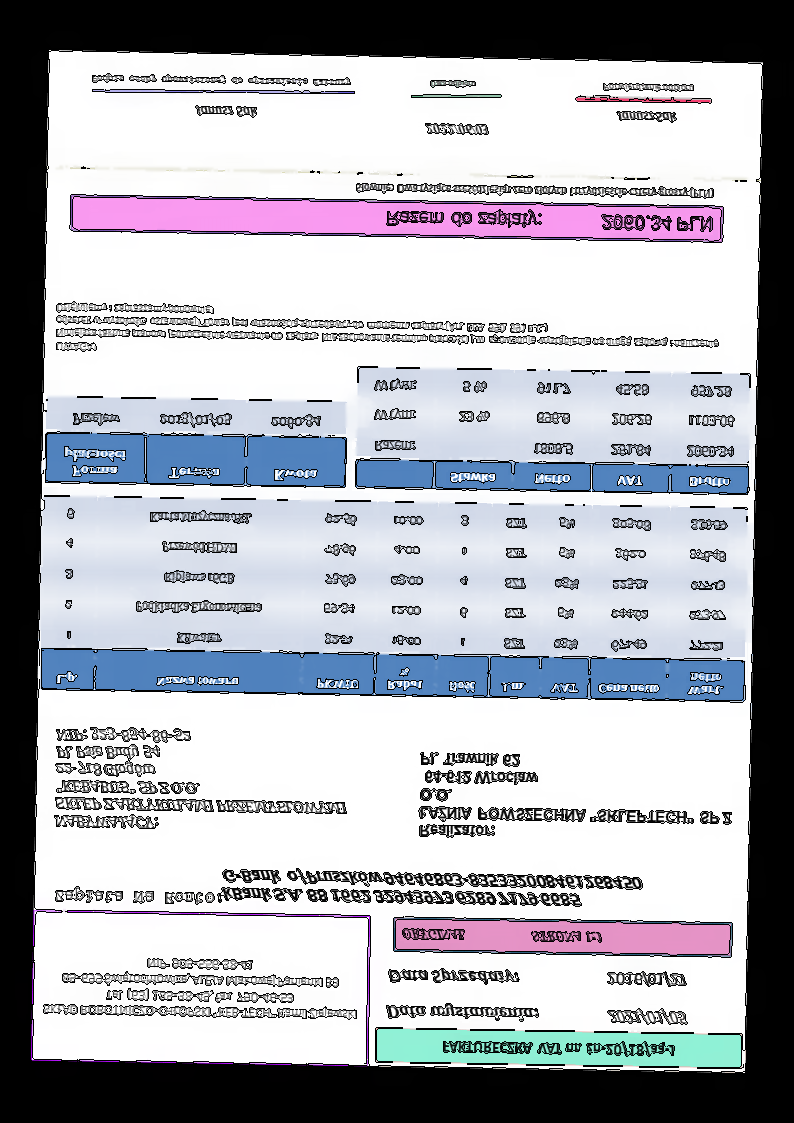Table: (38, 493, 749, 705), (354, 364, 753, 496), (44, 396, 347, 490)
TextBox: (54, 300, 722, 365), (52, 722, 352, 836), (416, 746, 738, 843), (41, 949, 361, 1025), (221, 867, 645, 908), (384, 207, 714, 234), (353, 180, 718, 201), (439, 1036, 677, 1062), (88, 71, 352, 88), (400, 924, 606, 945), (384, 997, 539, 1024), (53, 886, 224, 907), (384, 964, 521, 987), (606, 1005, 689, 1028), (605, 970, 688, 990), (191, 101, 259, 121), (601, 81, 697, 94), (422, 121, 491, 137), (613, 109, 679, 124), (427, 77, 479, 90)
